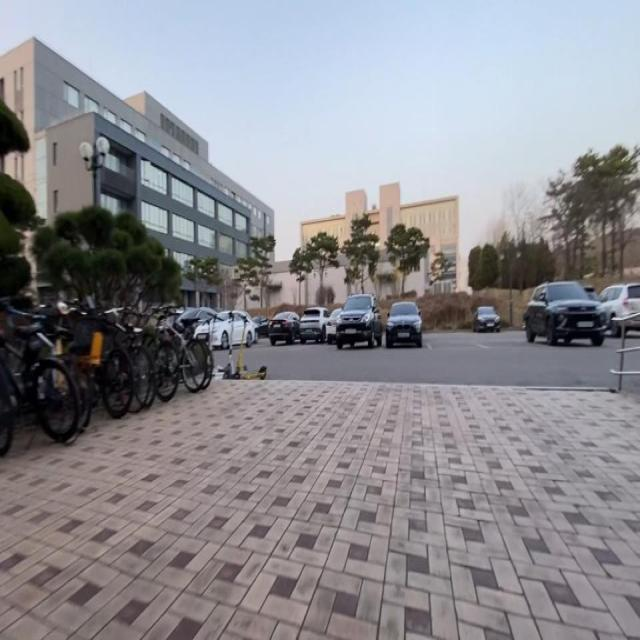sidewalk: (0, 380, 640, 640)
